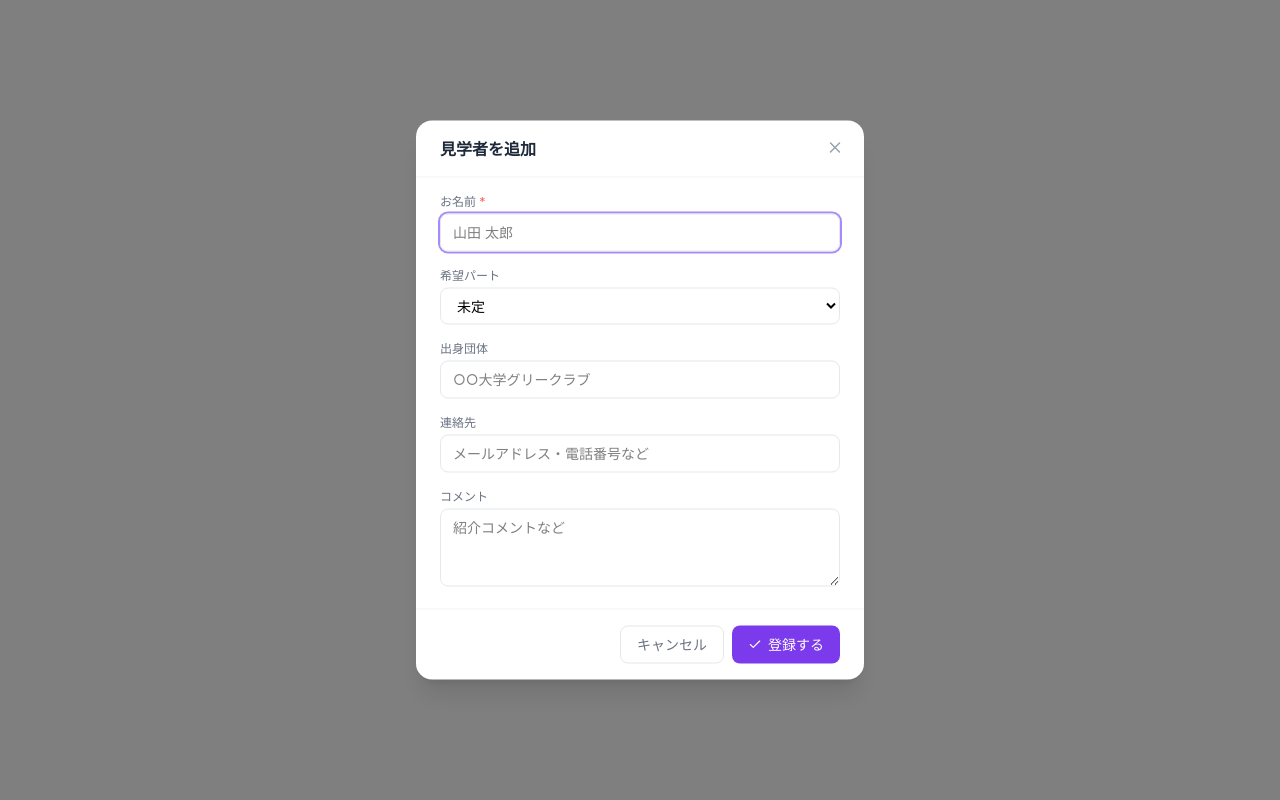
Scenario: AddVisitorApplicationModal › お名前が空: バリデーションエラーを表示する
The width and height of the screenshot is (1280, 800).
Click the button "登録する" at (786, 644), box [732,626,840,664]
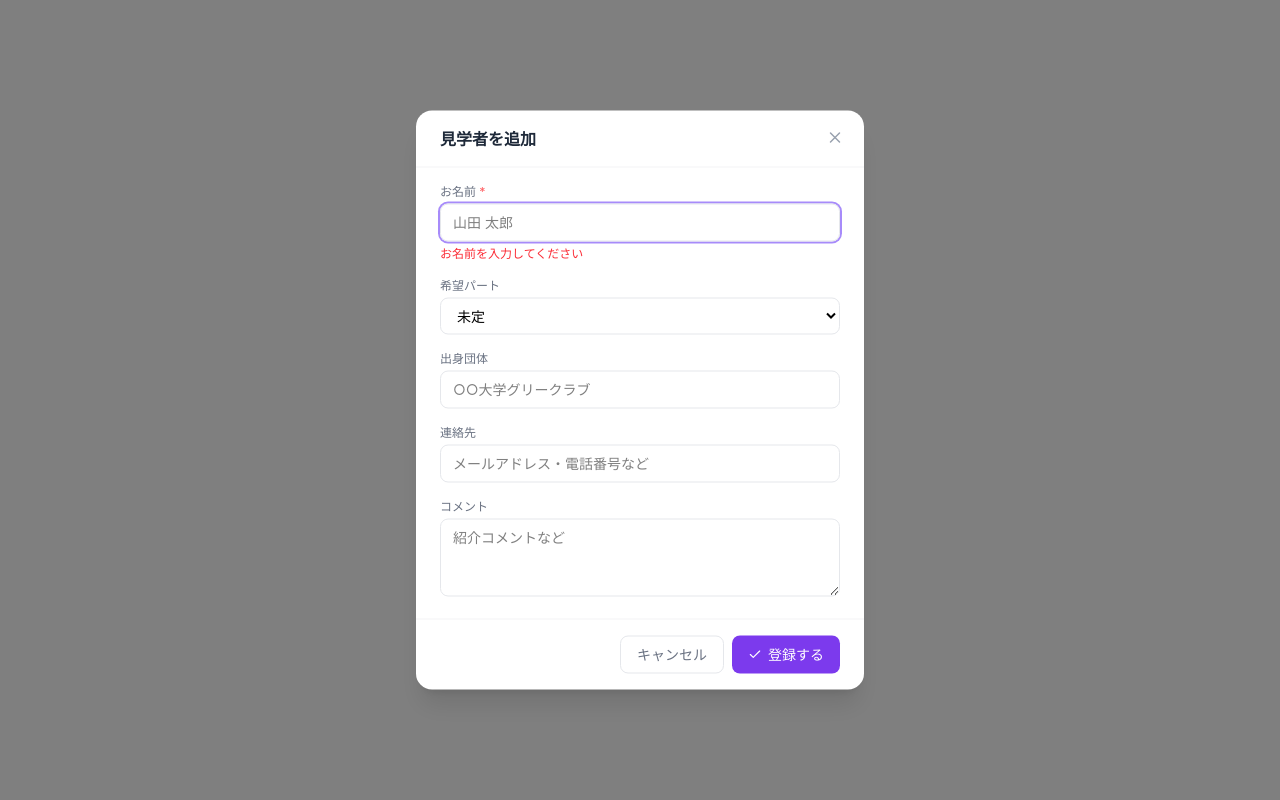
Expected: the text "お名前を入力してください" is shown, [440,246,583,260]
